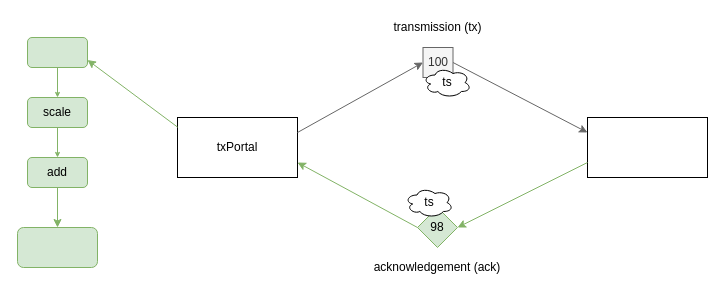
The diagram is 725 pixels wide and 303 high, and some of its shapes have lost their labels. Each missing label, with the centre of its shape:
"retxMs" goes at (x=57, y=247).
"rtt" goes at (x=57, y=52).
"rxPortal" goes at (x=647, y=147).
